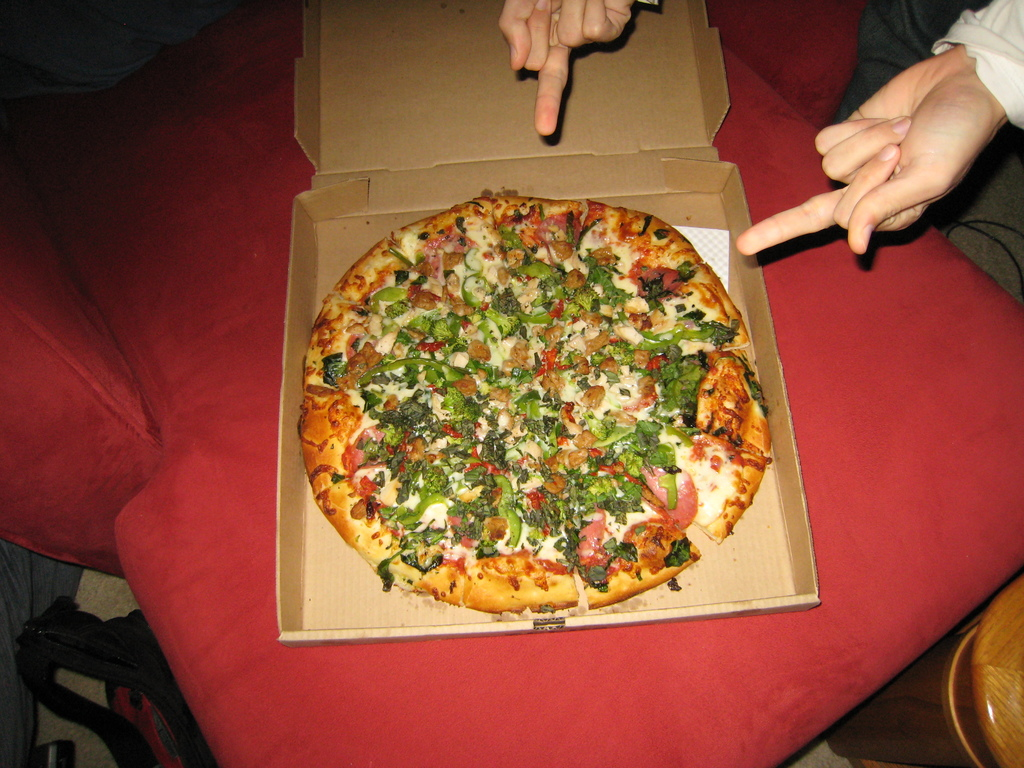Pizza: (425, 370, 572, 608), (557, 184, 733, 360), (299, 380, 451, 582), (416, 188, 588, 366), (611, 351, 768, 540), (288, 251, 474, 408), (360, 214, 529, 373), (570, 408, 689, 602)
